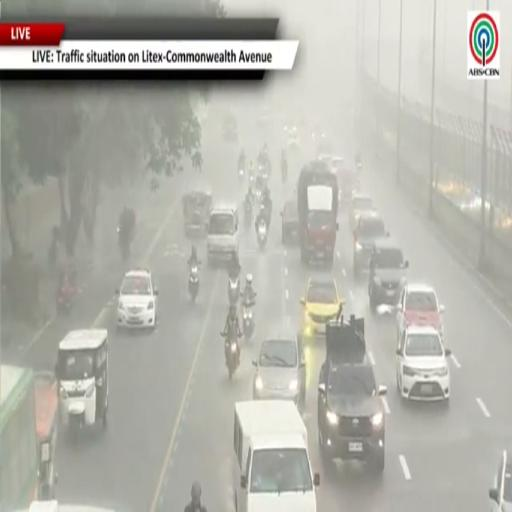bus: (0, 365, 38, 511)
car: (318, 315, 386, 473), (397, 326, 450, 401), (253, 335, 305, 406), (369, 238, 408, 311), (301, 276, 344, 337), (397, 283, 444, 338), (116, 268, 158, 328), (353, 212, 388, 278), (207, 204, 239, 265), (489, 447, 511, 511), (336, 160, 360, 209), (17, 501, 115, 511), (349, 194, 375, 231), (281, 198, 299, 246), (285, 125, 299, 149)
motorcycle: (221, 333, 239, 379), (57, 284, 76, 312), (69, 410, 84, 443), (188, 263, 199, 302), (118, 227, 130, 261), (243, 303, 254, 340), (228, 277, 240, 306), (258, 222, 267, 250), (245, 201, 253, 230), (282, 165, 287, 183), (249, 172, 255, 186), (239, 168, 245, 182), (357, 163, 362, 170)
truck: (297, 160, 338, 267)
